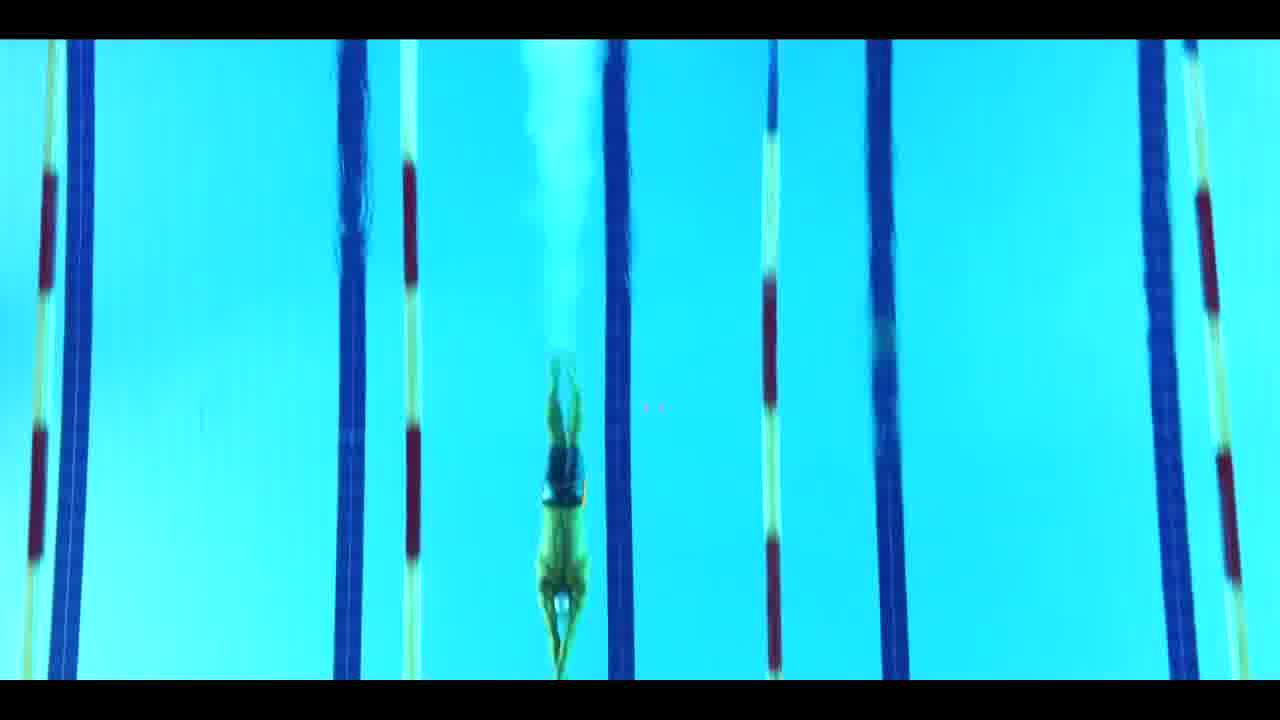swimmer: (541, 402, 585, 640)
